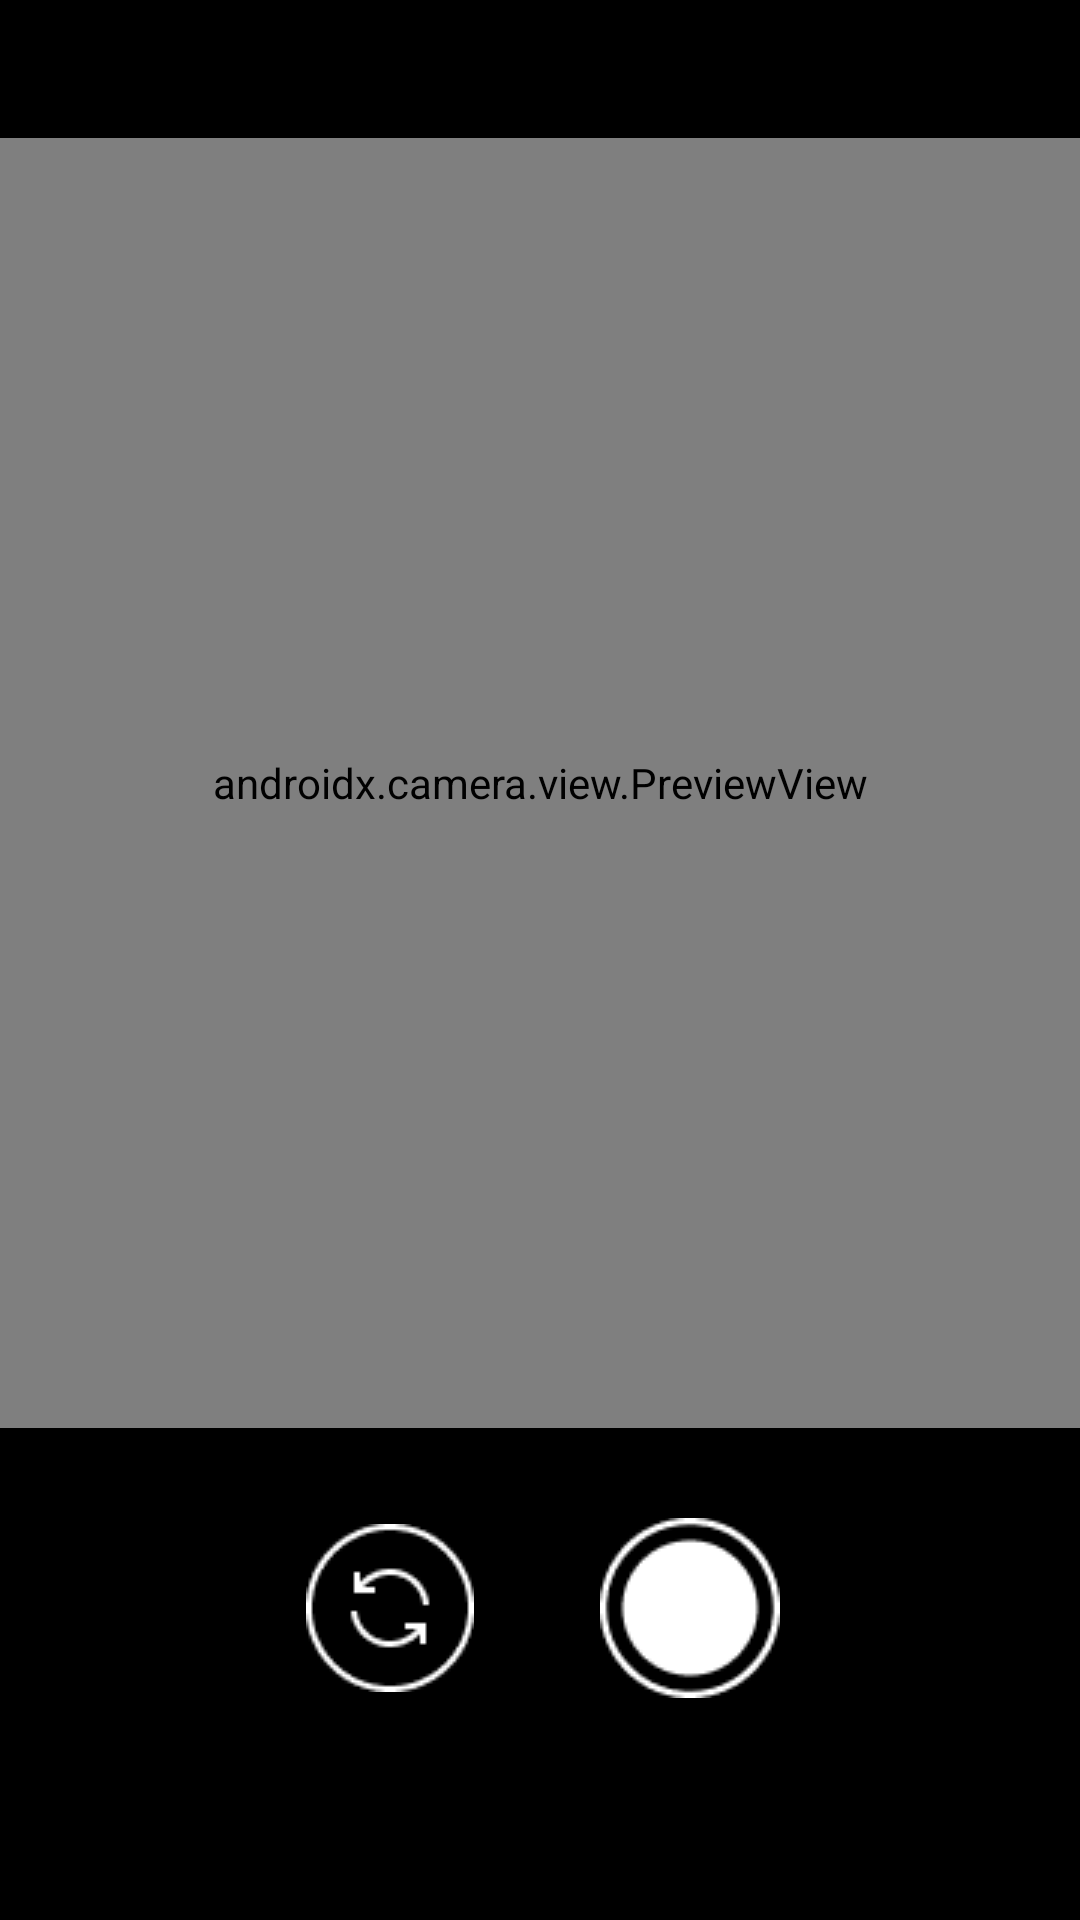

Icons on this 1080×1920 Android screen, each with the point to tap as (x=x, y=y):
refreshcamera: (x=390, y=1608)
shutter: (x=690, y=1608)
